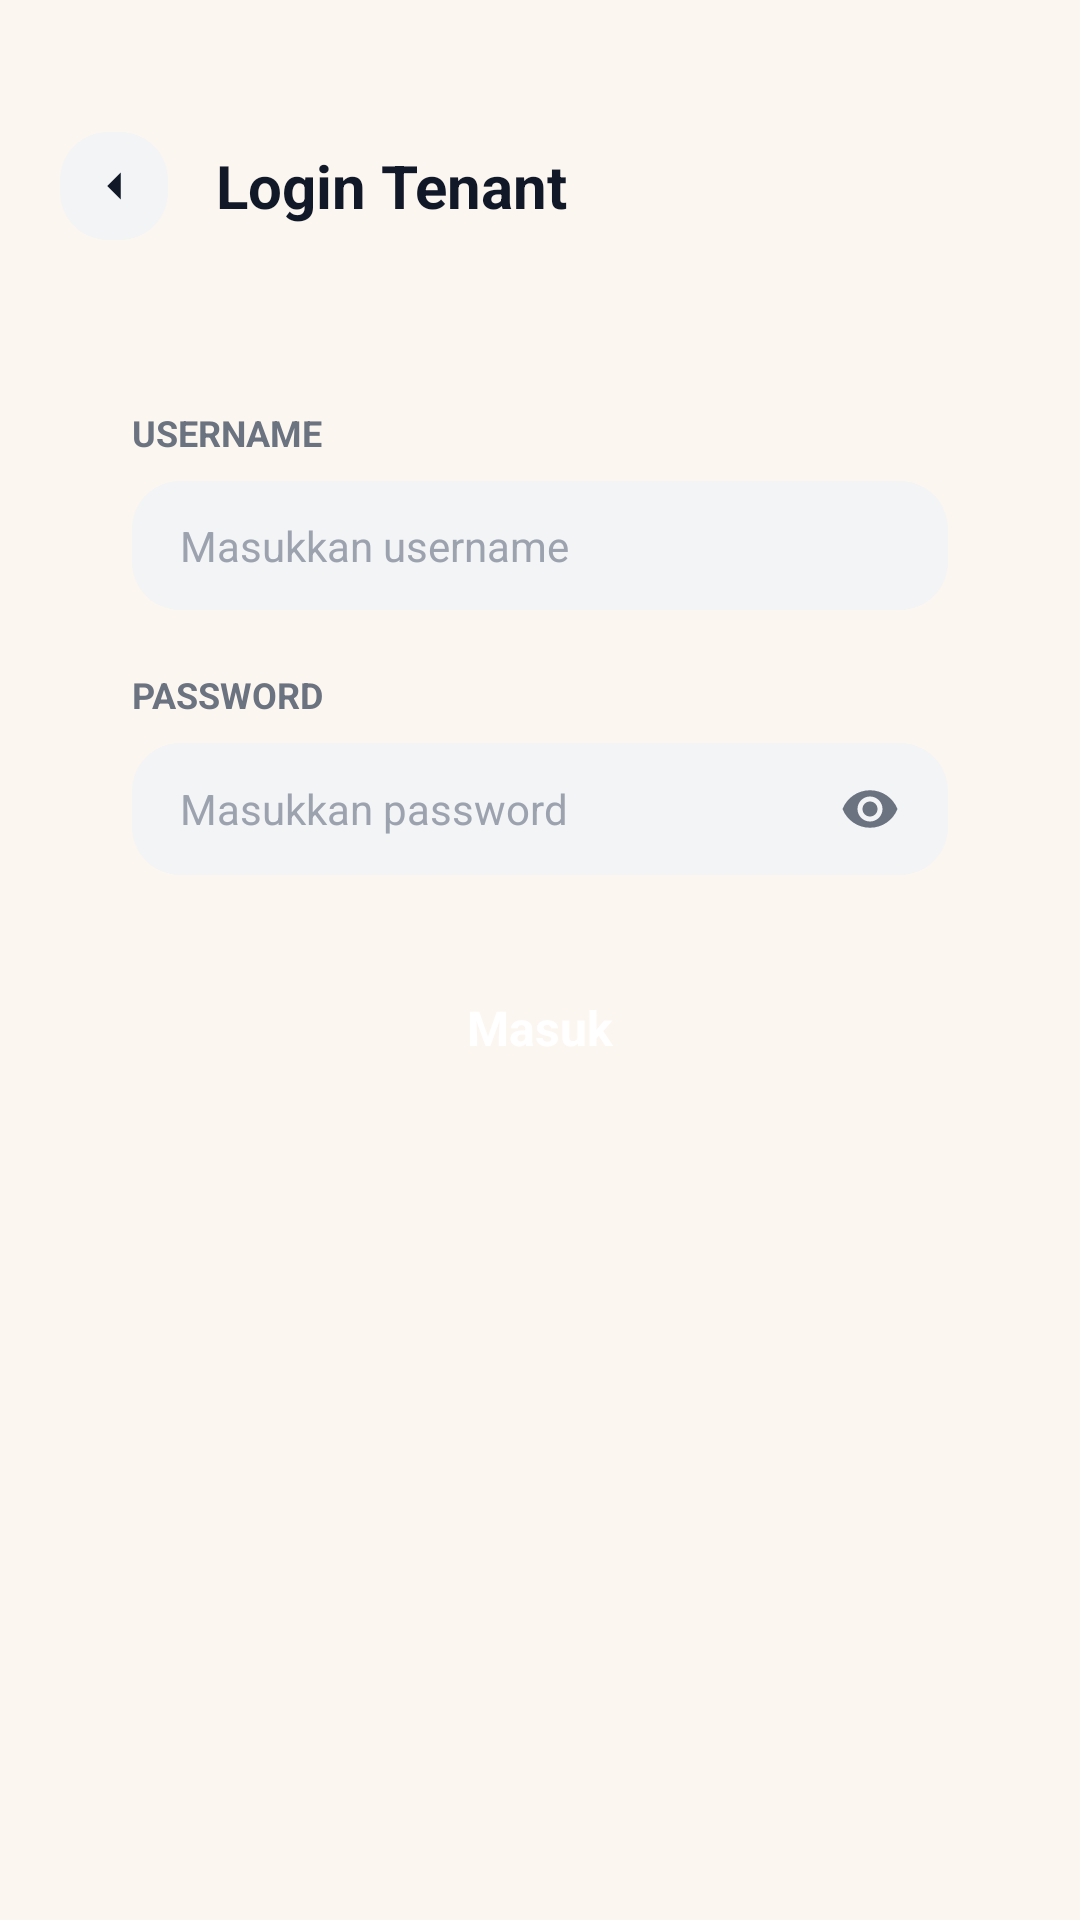

Icon bounding boxes for this 1080×1920 phone screenshot, format (x1, y1, x2, y2):
arrow left: (107, 172, 121, 200)
eye: (842, 790, 898, 828)
